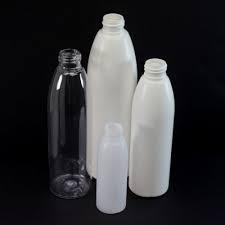Container for household chemicals: (44, 15, 197, 219)
